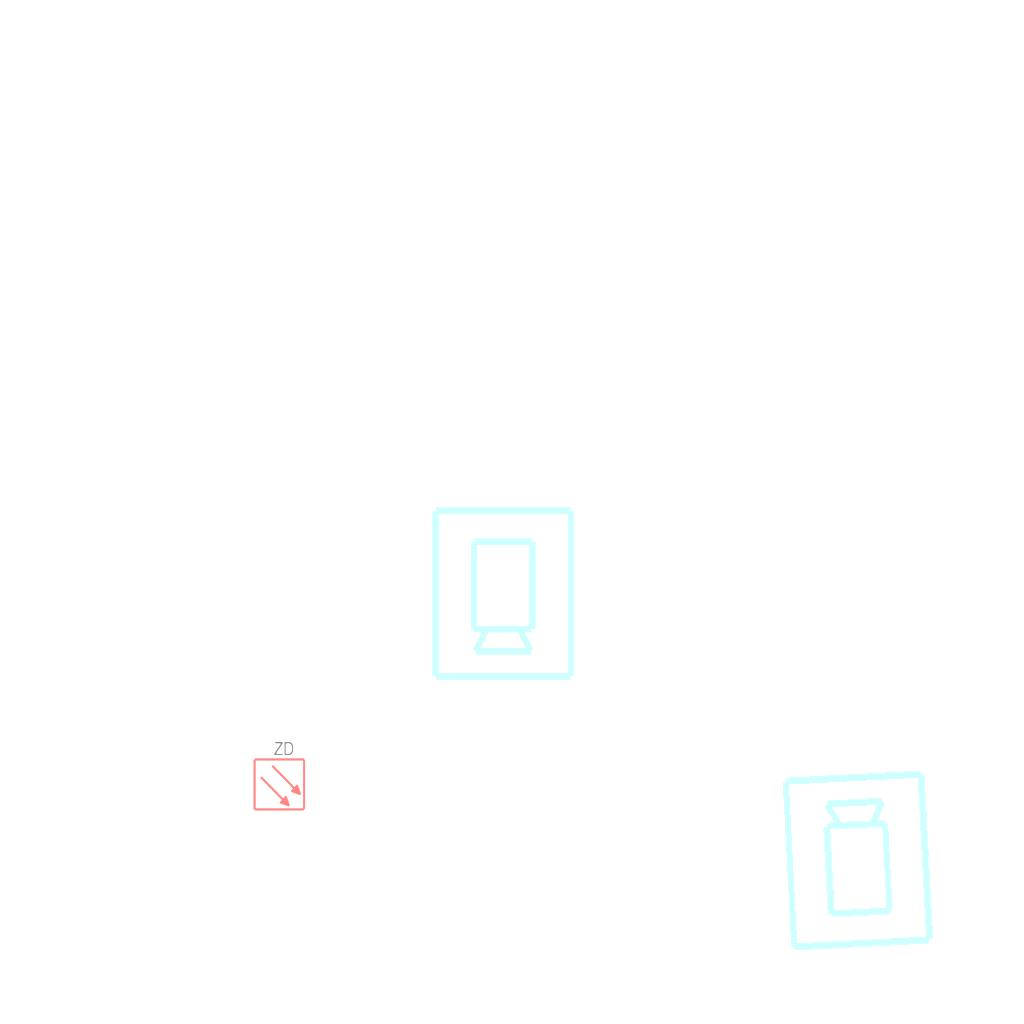KFO_Kamera_mit_Festobjektiv: (777, 766, 941, 956), (425, 502, 579, 684)
ZD_Melder_in_Zwischendecke_mit_Revisionsoeffnung_mind_40_x_40_cm: (250, 738, 307, 812)
